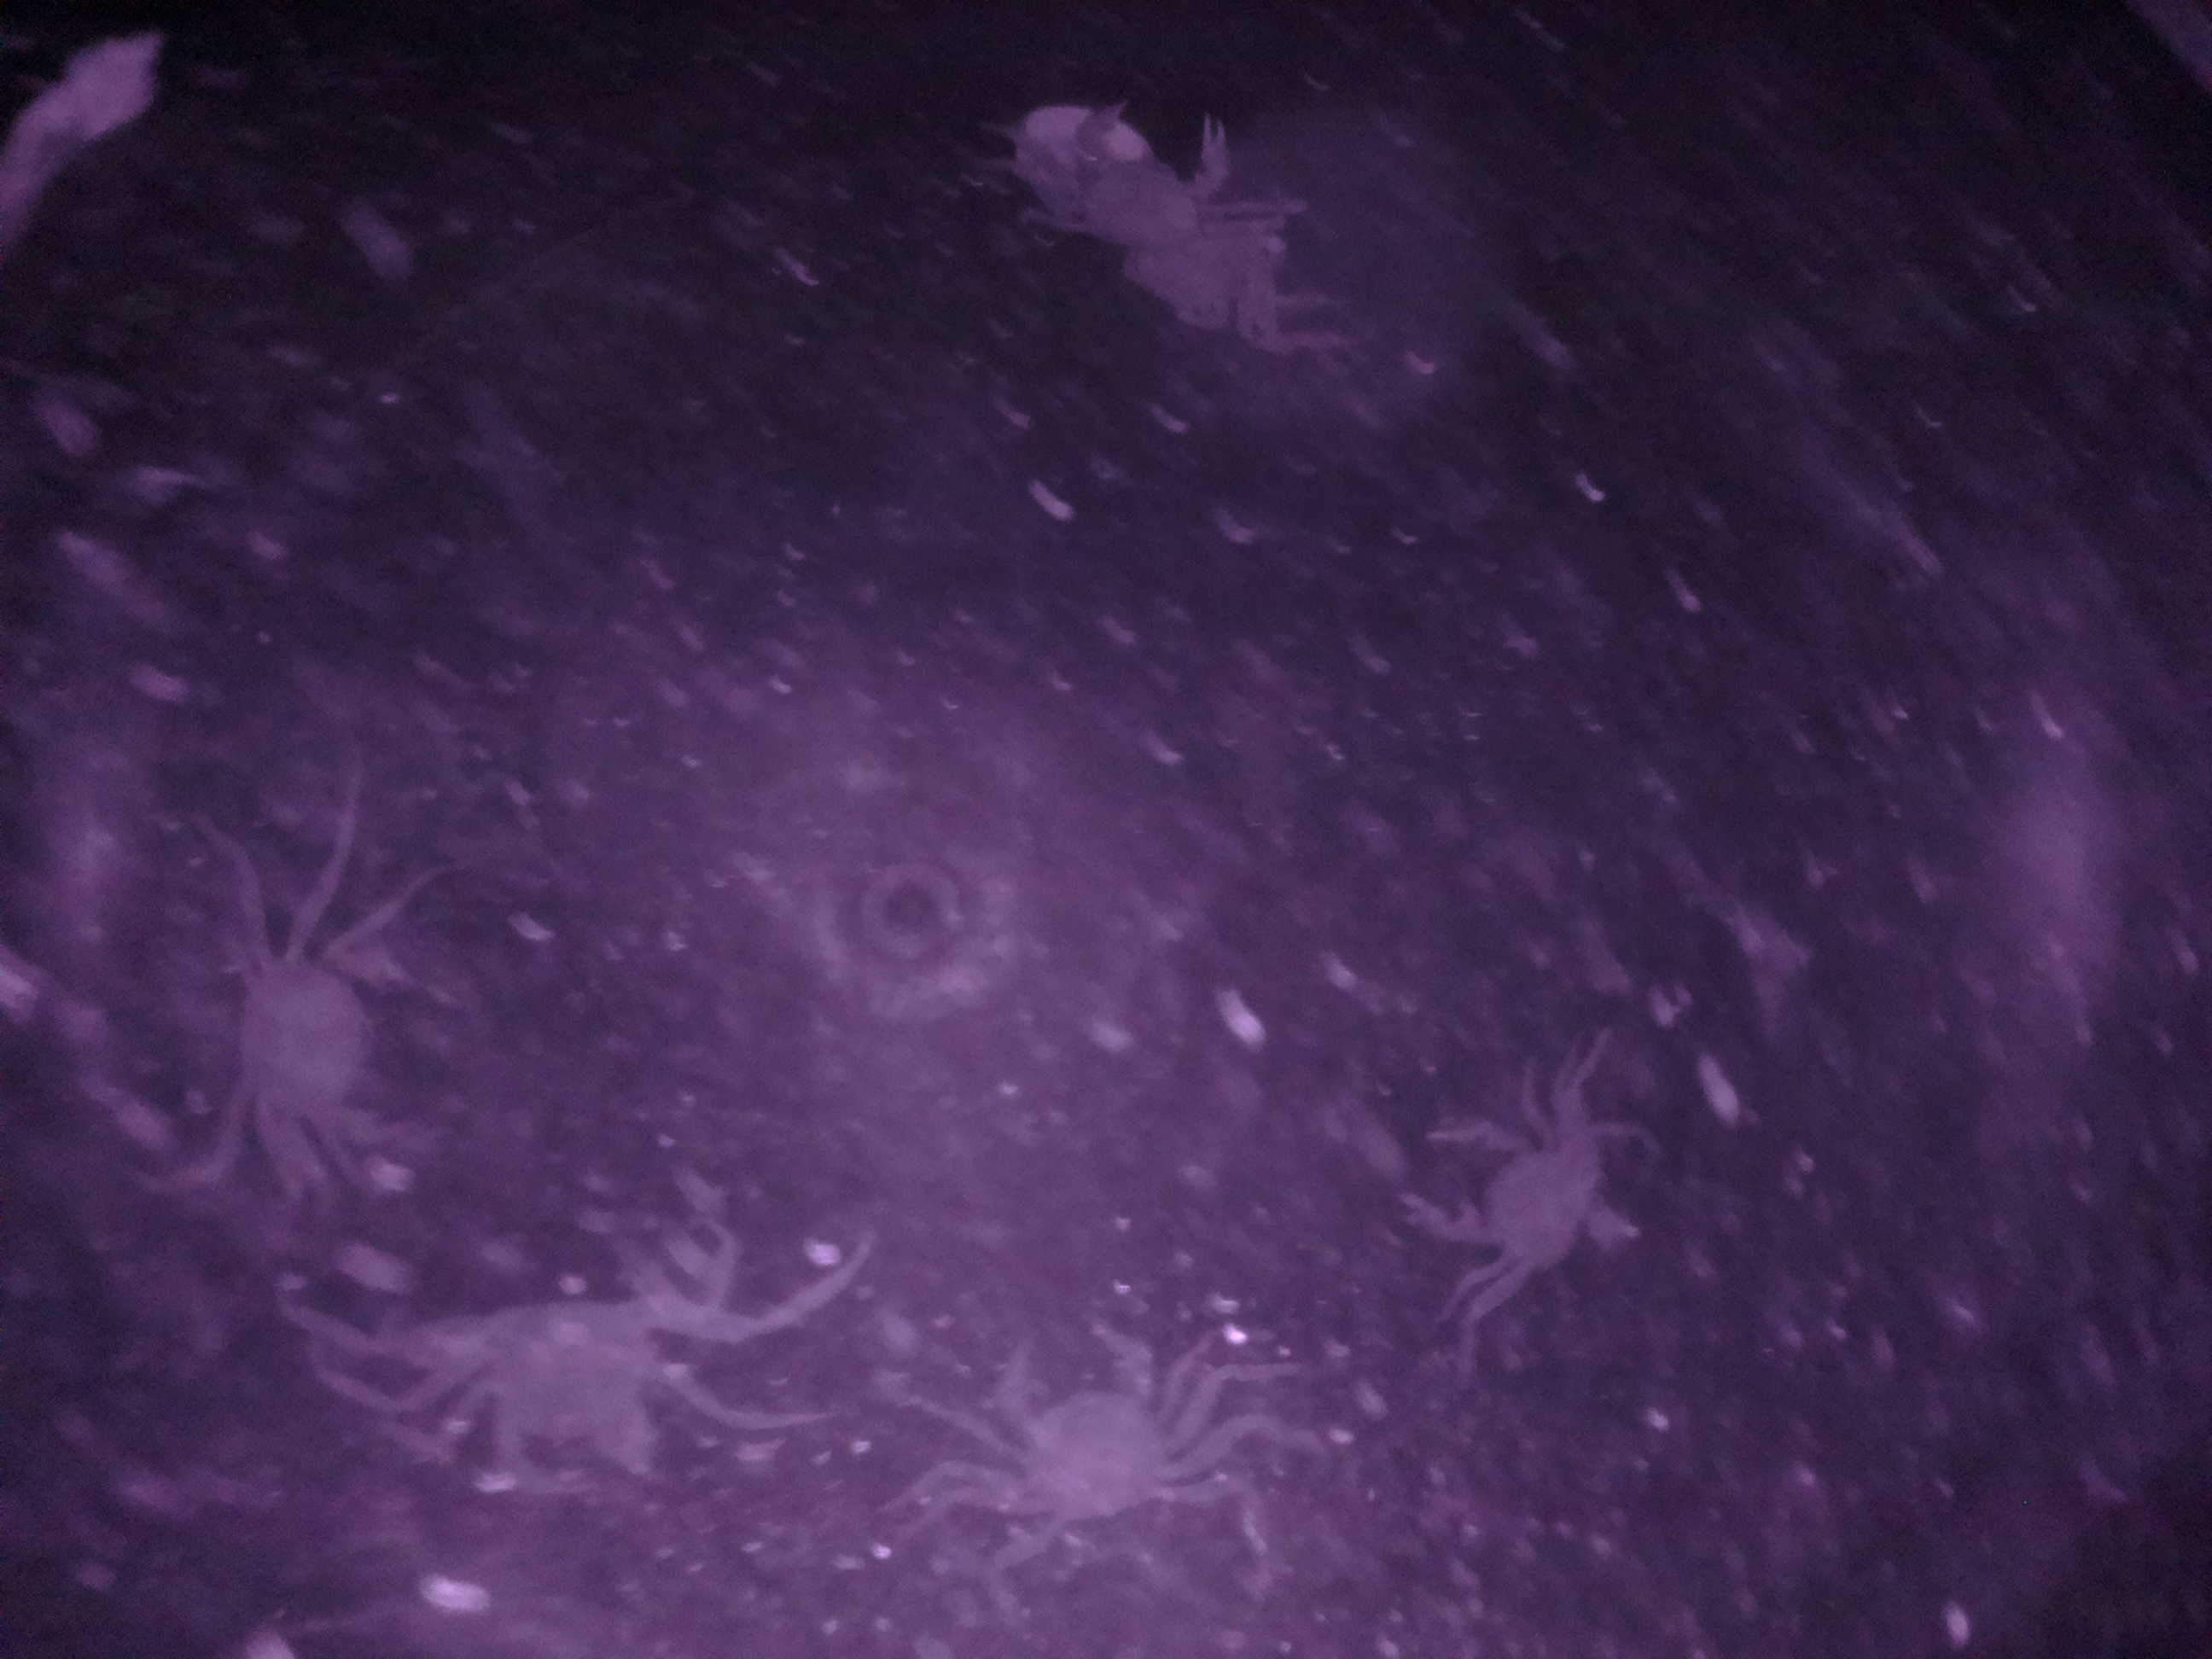Crab: (920, 1309, 1242, 1527), (1366, 1087, 1655, 1316)
